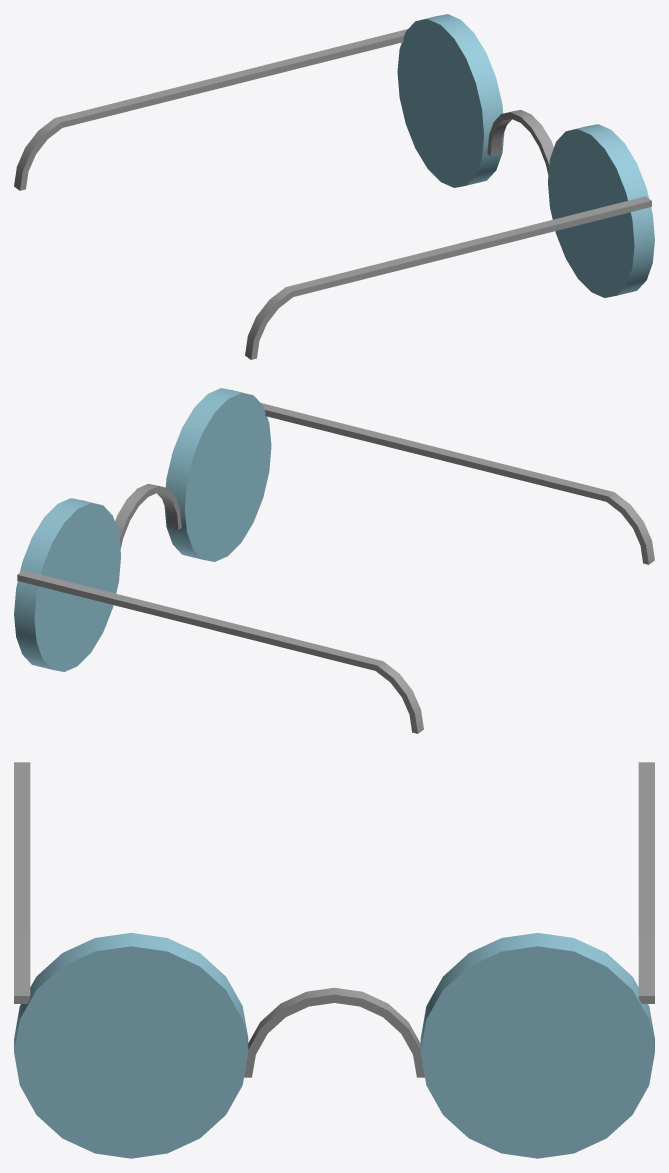
The model's file is glassesFBX.fbx.
3 views of the same model, one above another, from view 1: azimuth 30°, elevation 25°; view 2: azimuth 150°, elevation 25°; view 3: azimuth 270°, elevation 25° (orthographic). The views are drawn at different scales.
Parts seen in each view (by area): view 1: pCylinder3; view 2: pCylinder3; view 3: pCylinder3.
Boxes of the visible parts, box(x1,y1,x2,y2) form: pCylinder3: box(14, 14, 654, 359); pCylinder3: box(14, 388, 654, 733); pCylinder3: box(14, 762, 654, 1158).
Size of the model in its own units: 6.88 by 2.56 by 6.99.
